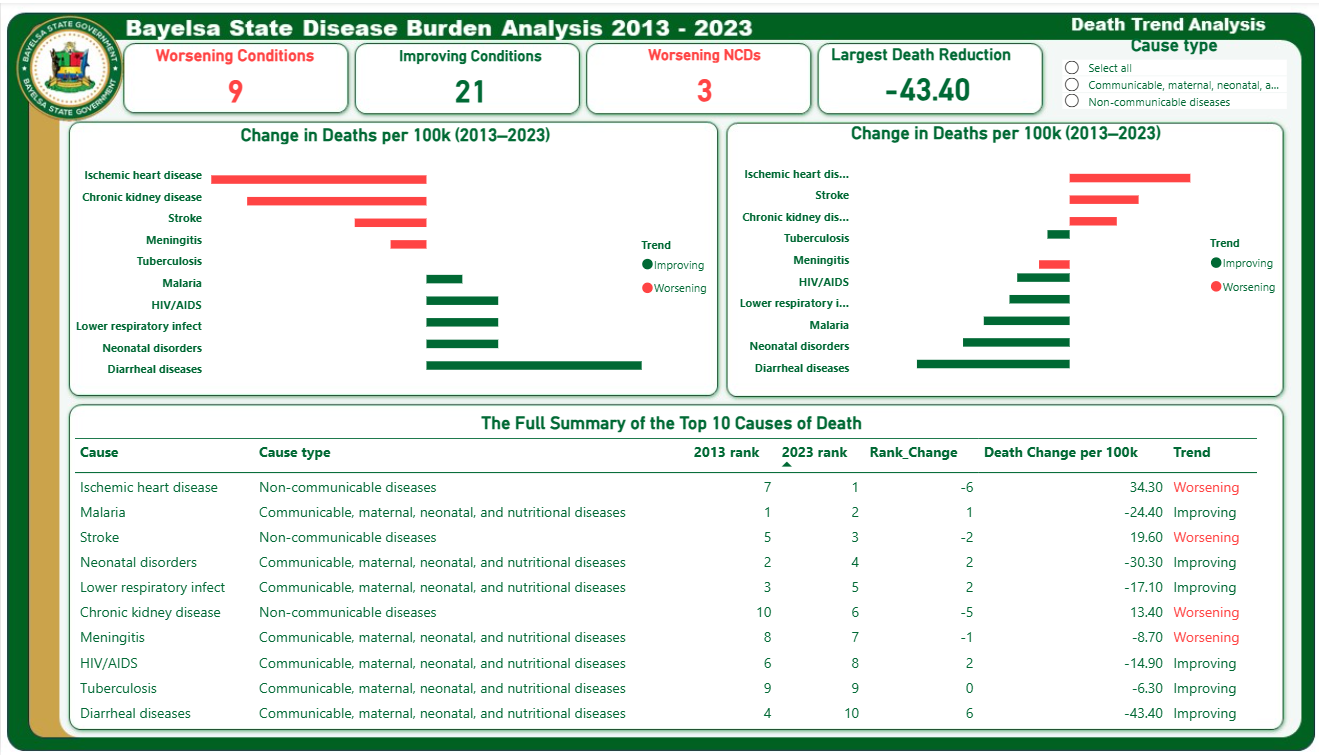

This screenshot's page, from the dashboard's own definition file:
{"tool":"powerbi","page":{"name":"Death Trend","canvas":[1280,720],"ordinal":1},"visuals":[{"type":"card","title":"Worsening Conditions","fields":{"Values":["_Measures.Worsening Conditions"]},"box":[128,43,192,64],"z":0},{"type":"card","title":"Improving Conditions","fields":{"Values":["_Measures.Improving Conditions"]},"box":[352,44,192,64],"z":1000},{"type":"card","title":"Worsening NCDs","fields":{"Values":["_Measures.Worsening NCDs"]},"box":[576,43,192,64],"z":2000},{"type":"card","title":"Largest Death Reduction","fields":{"Values":["_Measures.Largest Death Reduction"]},"box":[788,41,192,64],"z":3000},{"type":"clusteredBarChart","title":"Change in Deaths per 100k (2013–2023)","fields":{"Category":["Death Data.Cause"],"Y":["Sum(Death Data.Change in deaths per 100k, 2013-2023)"],"Series":["Death Data.Trend"]},"box":[688,116,544,256],"z":4000},{"type":"tableEx","title":"The Full Summary of the  Top 10 Causes of Death","fields":{"Values":["Death Data.Cause","Death Data.Cause type","Death Data.2013 rank","Death Data.2023 rank","Death Data.Rank_Change","Death Data.Death Change per 100k","Death Data.Trend"]},"box":[64,392,1152,304],"z":5000},{"type":"clusteredBarChart","title":"Change in Deaths per 100k (2013–2023)","fields":{"Category":["Death Data.Cause"],"Series":["Death Data.Trend"],"Y":["Sum(Death Data.Rank_Change)"]},"box":[64,117,624,256],"z":6000},{"type":"listSlicer","fields":{"Values":["Death Data.Cause type"]},"box":[1008,32,224,160],"z":7000}]}

Visuals, with their boxes in screenshot pixels (x1, y1, x2, y2), scaled from the page's 1280x720 canvas onto the 1319x755 screenshot:
"Worsening Conditions" card: bbox(132, 45, 330, 112)
"Improving Conditions" card: bbox(363, 46, 561, 113)
"Worsening NCDs" card: bbox(594, 45, 791, 112)
"Largest Death Reduction" card: bbox(812, 43, 1010, 110)
"Change in Deaths per 100k (2013–2023)" clusteredBarChart: bbox(709, 122, 1270, 390)
"The Full Summary of the  Top 10 Causes of Death" tableEx: bbox(66, 411, 1253, 730)
"Change in Deaths per 100k (2013–2023)" clusteredBarChart: bbox(66, 123, 709, 391)
listSlicer - Death Data.Cause type: bbox(1039, 34, 1270, 201)
